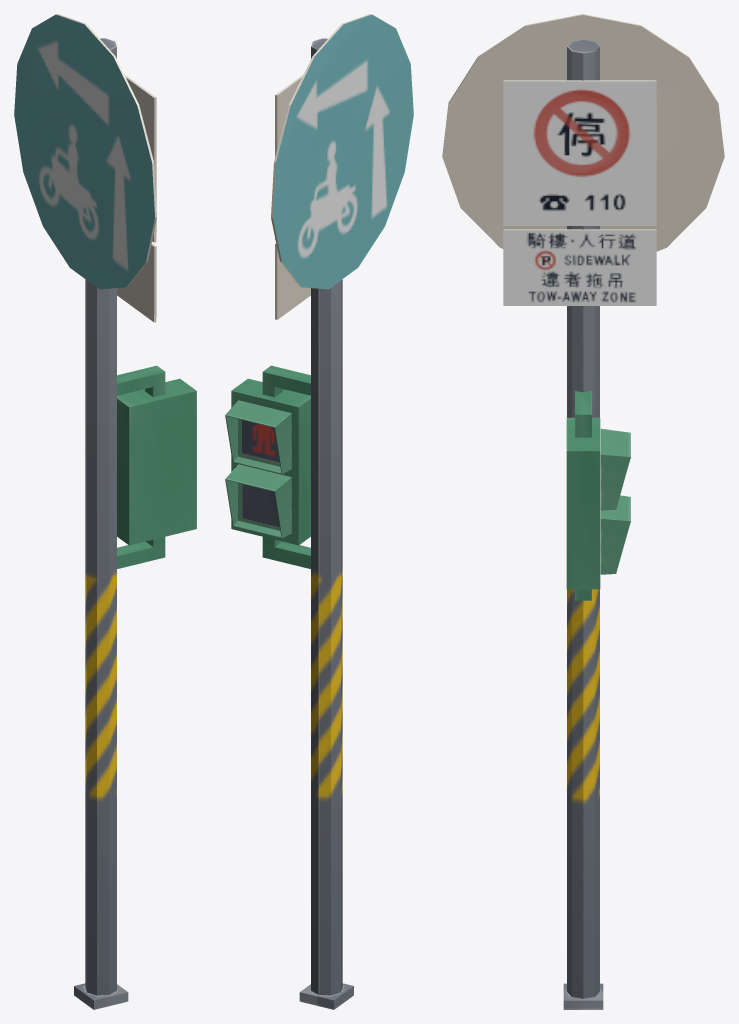
File: Poteau.glb
3 renders of one model, left to right at view 1: azimuth 30°, elevation 25°; view 2: azimuth 150°, elevation 25°; view 3: azimuth 270°, elevation 25°, orthographic.
Parts seen in each view (by area): view 1: Poteau; view 2: Poteau; view 3: Poteau.
Part boxes in pixels (x1=…): Poteau: x1=14, y1=14, x2=196, y2=1009; Poteau: x1=225, y1=14, x2=413, y2=1009; Poteau: x1=442, y1=14, x2=724, y2=1009.
Bounding box in the file's own units: 0.3325 × 2.98 × 0.7773.
Materials: 1 (1 with a texture image).
